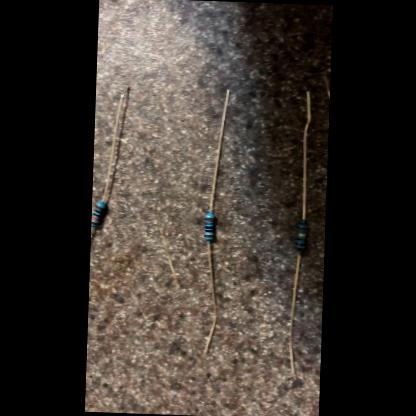resistor: (90, 200, 105, 228), (294, 223, 308, 252), (204, 212, 214, 240)
wire: (208, 88, 228, 213), (300, 90, 310, 220), (322, 75, 330, 97)
